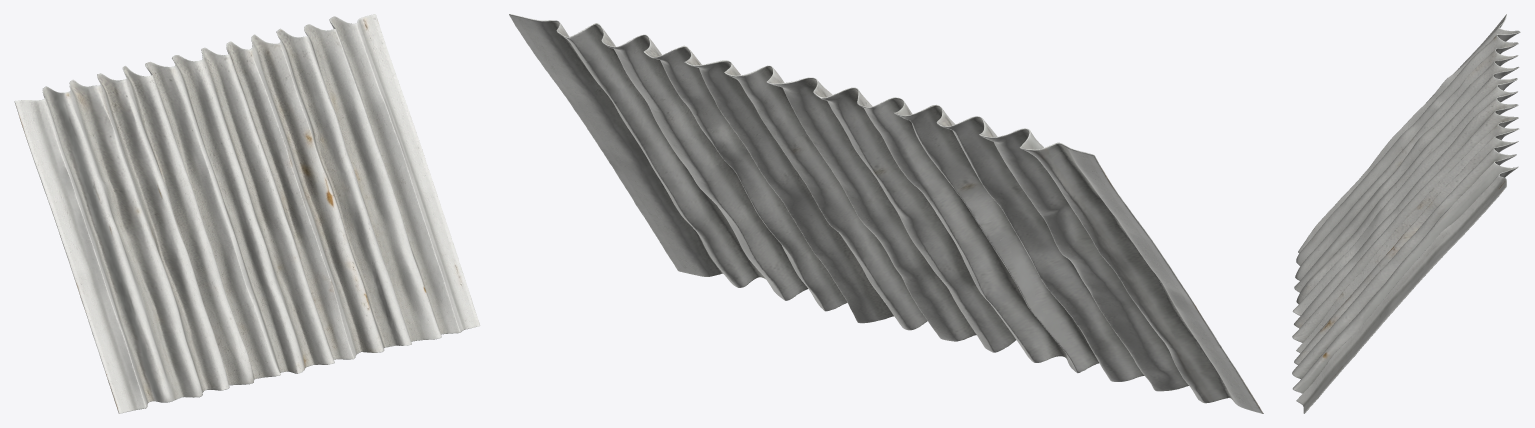
File: Meshy_AI_a_small_sheet_of_corr_1009172032_texture.fbx
3 views of the same model, side by side, from view 1: azimuth 30°, elevation 25°; view 2: azimuth 150°, elevation 25°; view 3: azimuth 270°, elevation 25° (orthographic). The views are drawn at different scales.
Parts seen in each view (by area): view 1: Mesh_0; view 2: Mesh_0; view 3: Mesh_0.
Part boxes in pixels (x1,y1,x2,y2): Mesh_0: (14,14,480,413); Mesh_0: (509,14,1263,413); Mesh_0: (1292,14,1520,413).
Size of the model in its own units: 190 by 120 by 107.
Materials: 1 (1 with a texture image).
